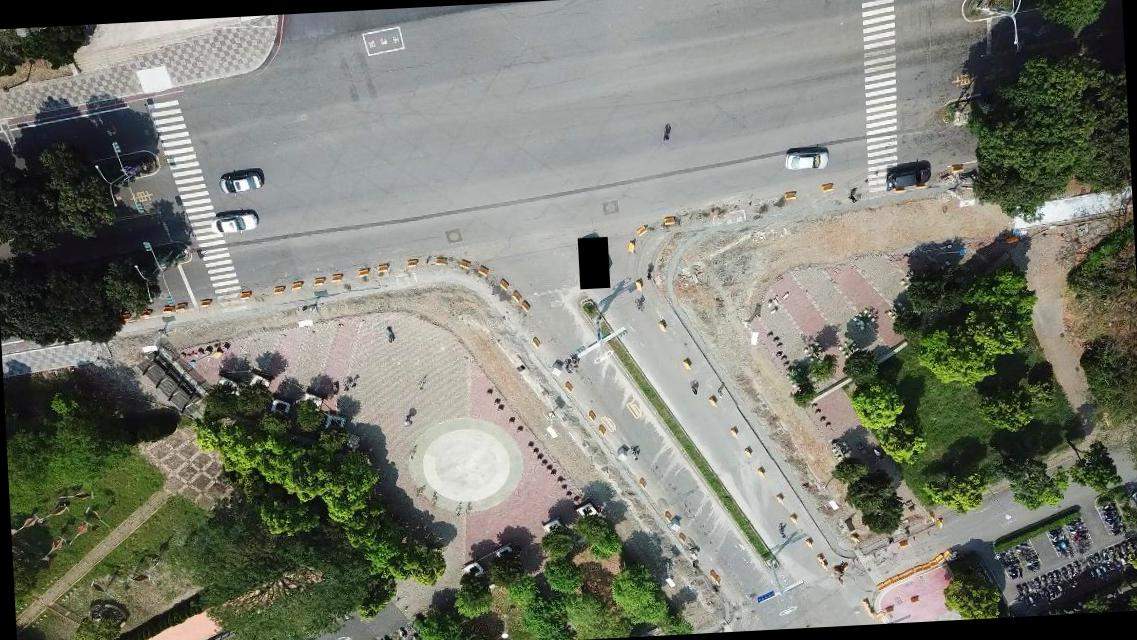vehicle: (882, 165, 930, 192), (218, 171, 265, 197), (784, 146, 828, 173), (209, 212, 258, 235)
